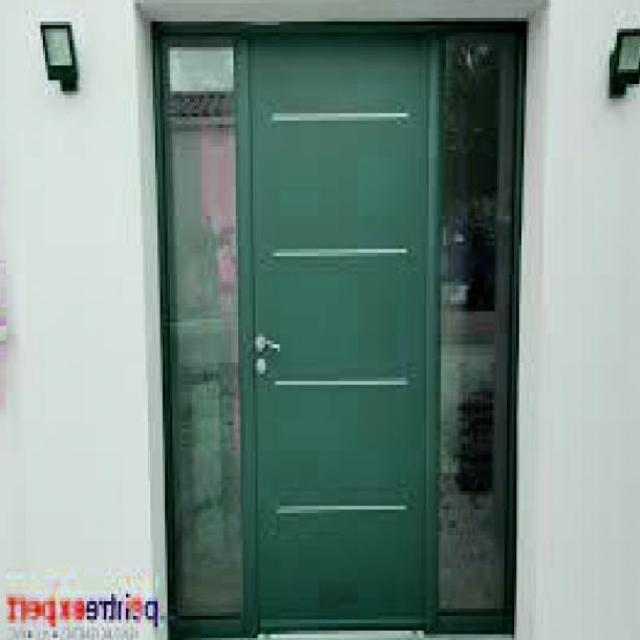door: (239, 31, 440, 633)
